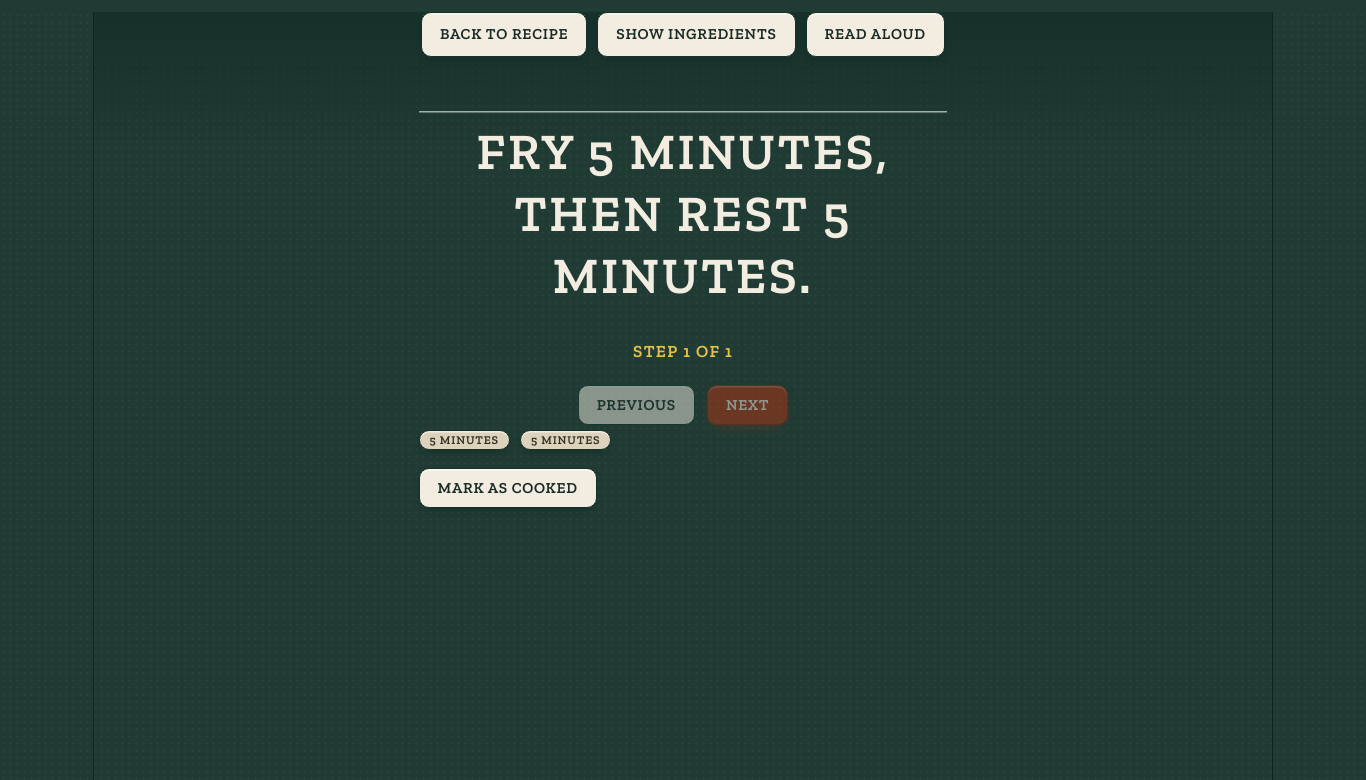
Test: keeps two identical durations in one step as two separate chips
This screenshot has width=1366, height=780.
Click the button with aria-label "start a 5 minutes timer" at {"x": 464, "y": 440}, box [419, 430, 510, 450]
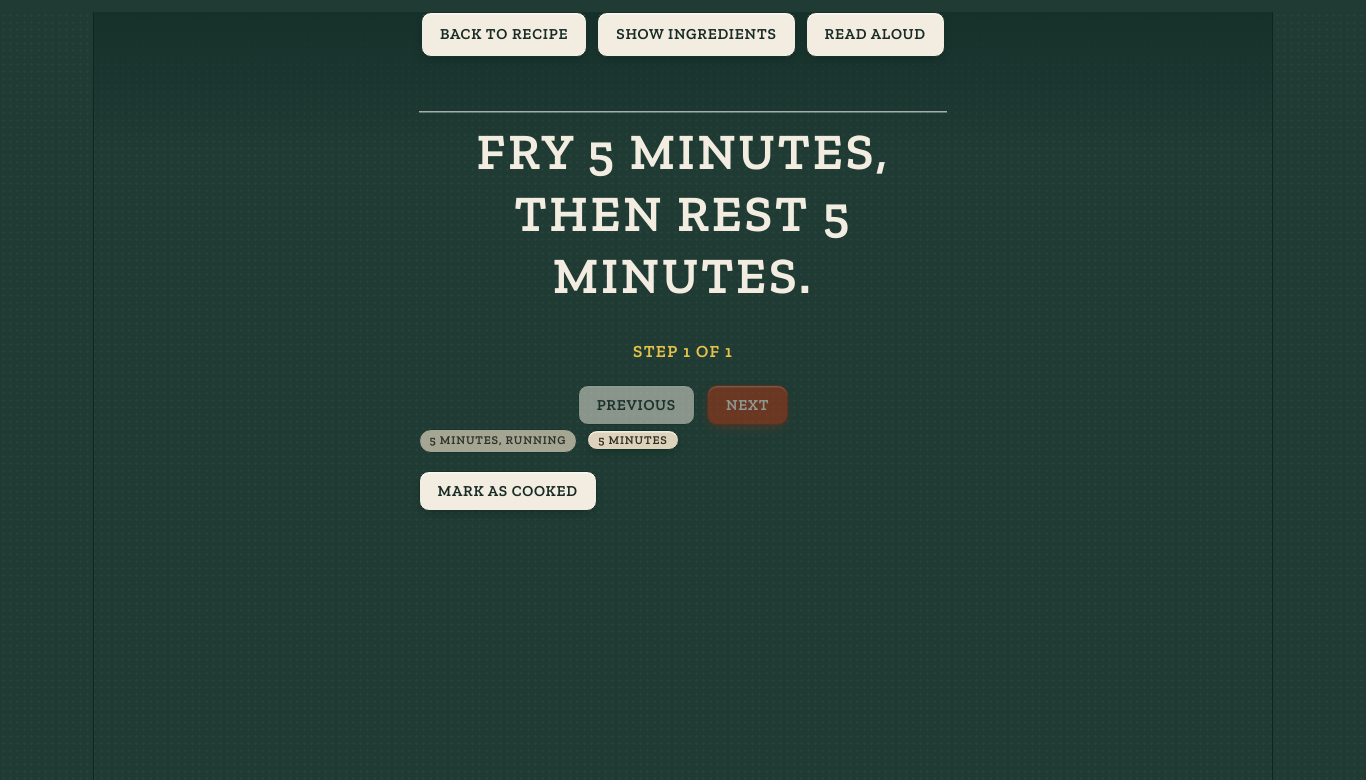
Check: the number of buttons named "start a 5 minutes timer" is 1, box [587, 430, 679, 450]
Check: the text "5 minutes, running" is shown, box [419, 429, 577, 453]
